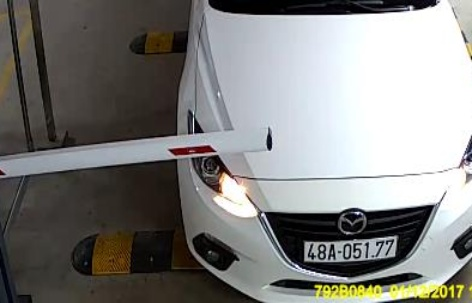plate: (298, 234, 397, 266)
